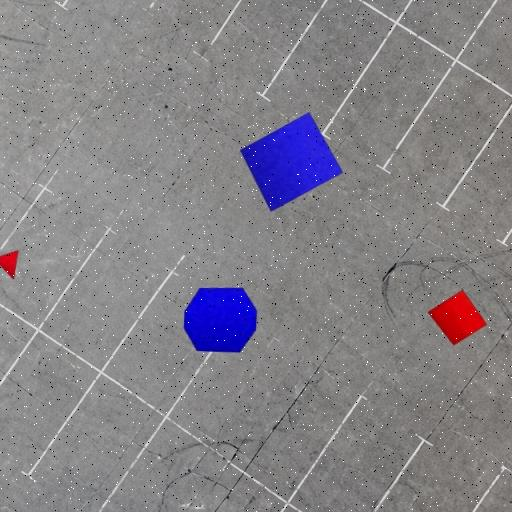BLUE_SQUARE: (239, 112, 343, 213)
RED_SQUARE: (426, 290, 488, 346)
